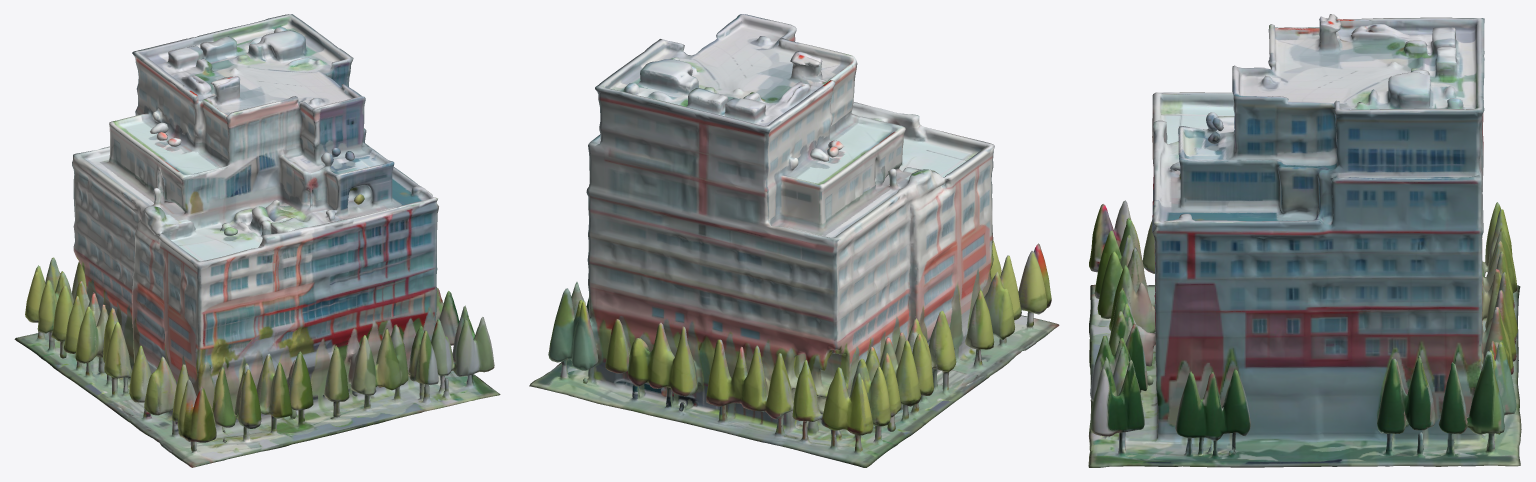
File: pharmacy7.glb
3 views of the same model, side by side, from view 1: azimuth 30°, elevation 25°; view 2: azimuth 150°, elevation 25°; view 3: azimuth 270°, elevation 25° (orthographic). The views are drawn at different scales.
Size of the model in its own units: 2 by 1.77 by 2.01.
1 material, 1 textured.
